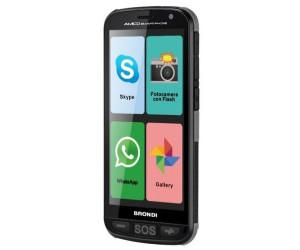Smartphone: (103, 10, 200, 246)
